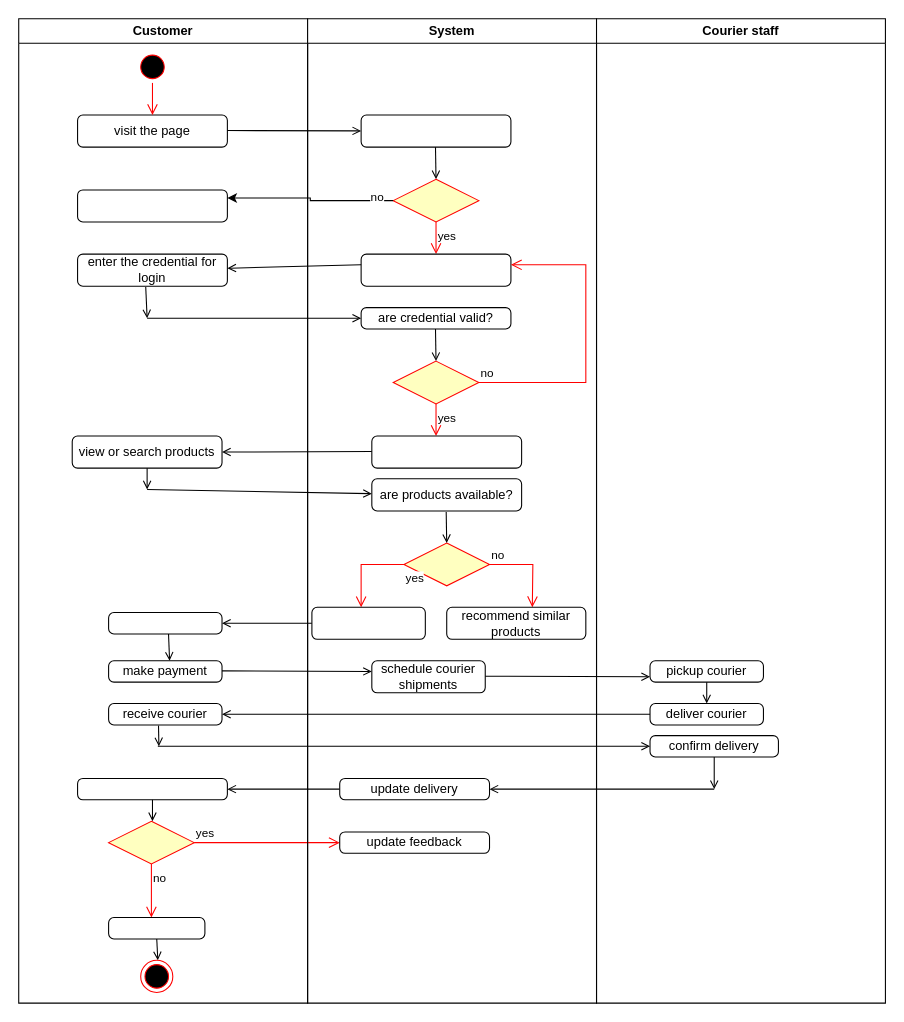
Image size: 904x1022. Some labels were removed from this diagram. Each missing label, with the centre of its shape:
"create an account" belongs at point (152, 205).
"display product" belongs at point (368, 622).
"is user registered?" belongs at point (435, 130).
"logout" belongs at point (156, 927).
"open product page" belongs at point (446, 451).
"place order" belongs at point (165, 623).
"redirect to login page" belongs at point (435, 269).
"send feedback?" belongs at point (152, 788).
